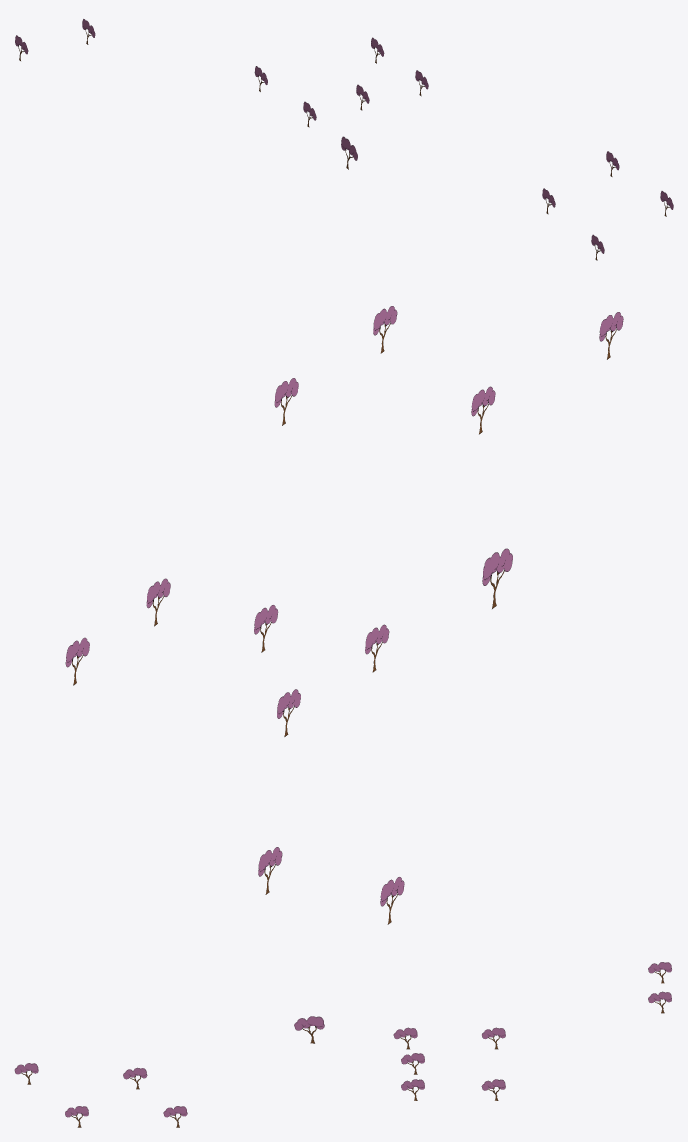
File: Lvl1.Tree_Sakura.fbx
3 views of the same model, one above another, from view 1: azimuth 30°, elevation 25°; view 2: azimuth 150°, elevation 25°; view 3: azimuth 270°, elevation 25° (orthographic). The views are drawn at different scales.
Visible parts, largest first — view 1: no part large enough to name; view 2: no part large enough to name; view 3: Vegetable.020.
Boxes of the visible parts, <box> form: Vegetable.020: <box>294,1016,324,1043</box>.
Size of the model in its own units: 9726 by 919 by 18831.
Materials: 1 (1 with a texture image).
